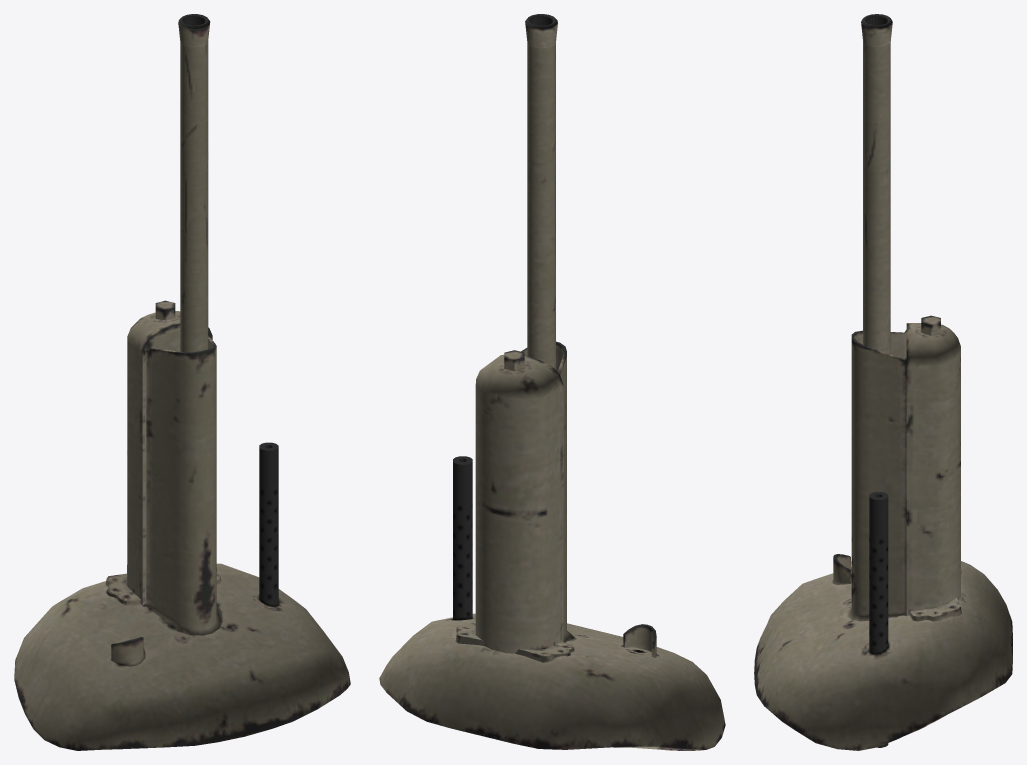
File: Gun_05.glb
3 views of the same model, side by side, from view 1: azimuth 30°, elevation 25°; view 2: azimuth 150°, elevation 25°; view 3: azimuth 270°, elevation 25° (orthographic). The views are drawn at different scales.
Visible parts, largest first — view 1: set_0_group_0; view 2: set_0_group_0; view 3: set_0_group_0.
Part boxes in pixels (box(x1,y1,x2,y2)): set_0_group_0: box(14, 14, 350, 750); set_0_group_0: box(379, 14, 725, 750); set_0_group_0: box(754, 14, 1012, 750).
Size of the model in its own units: 0.5818 by 1.3 by 0.4421.
1 material, 1 textured.
